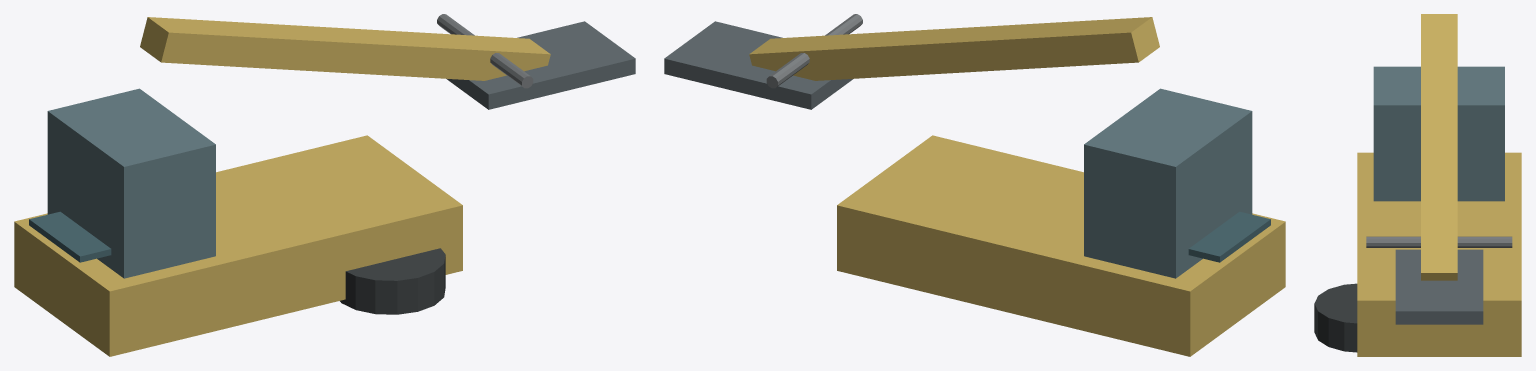
File: reach-stacker-lod0.glb
The picture shows the model from 3 angles, left to right: view 1: azimuth 30°, elevation 25°; view 2: azimuth 150°, elevation 25°; view 3: azimuth 270°, elevation 25°; orthographic projection. The views are drawn at different scales.
Visible parts, largest first — view 1: body, cab, boom, spreader, wheel, rear-detail, hydraulic; view 2: body, cab, boom, spreader, rear-detail, hydraulic; view 3: body, cab, boom, spreader, wheel, hydraulic.
Boxes of the visible parts, x1,y1,x2,y2 form: body: (14, 135, 462, 356); cab: (47, 88, 215, 278); boom: (140, 17, 550, 80); spreader: (446, 21, 635, 109); wheel: (340, 248, 445, 314); rear-detail: (29, 211, 111, 262); hydraulic: (437, 14, 533, 88); body: (837, 135, 1285, 356); cab: (1084, 88, 1252, 278); boom: (749, 17, 1159, 80); spreader: (664, 21, 853, 109); rear-detail: (1188, 211, 1270, 262); hydraulic: (766, 14, 862, 88); body: (1357, 152, 1521, 356); cab: (1373, 66, 1504, 201); boom: (1421, 14, 1457, 280); spreader: (1395, 249, 1483, 324); wheel: (1314, 283, 1357, 352); hydraulic: (1366, 236, 1512, 247).
Size of the model in its own units: 7.55 by 3.63 by 2.84.
